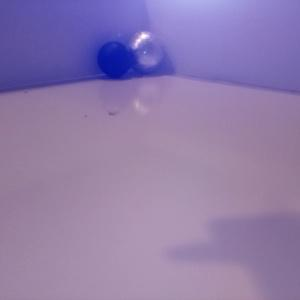alive_ball: (127, 30, 165, 72)
dead_ball: (97, 40, 131, 77)
